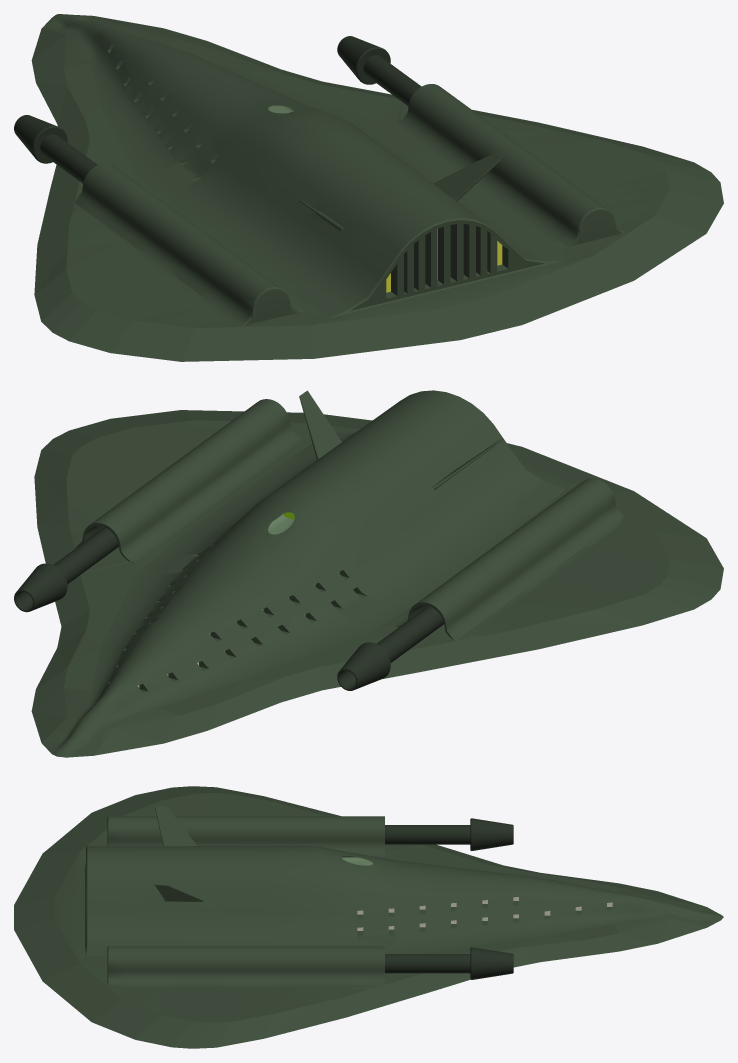
The model's file is ship2b.obj.
3 views of the same model, one above another, from view 1: azimuth 30°, elevation 25°; view 2: azimuth 150°, elevation 25°; view 3: azimuth 270°, elevation 25° (orthographic). The views are drawn at different scales.
Parts seen in each view (by area): view 1: Cylinder; view 2: Cylinder; view 3: Cylinder.
Part boxes in pixels (<box>): Cylinder: <box>14,14,723,361</box>; Cylinder: <box>14,390,723,757</box>; Cylinder: <box>14,786,723,1048</box>.
Size of the model in its own units: 0.4613 by 0.059 by 0.527.
2 materials, 2 textured.
